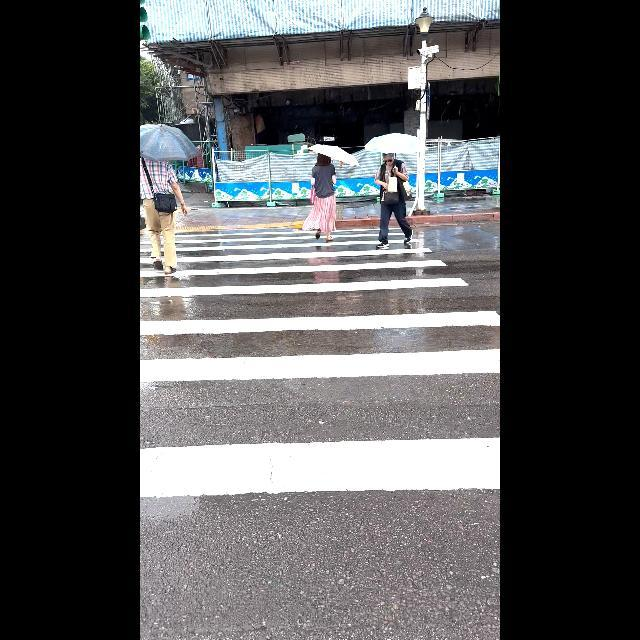sidewalk: (140, 225, 499, 494)
